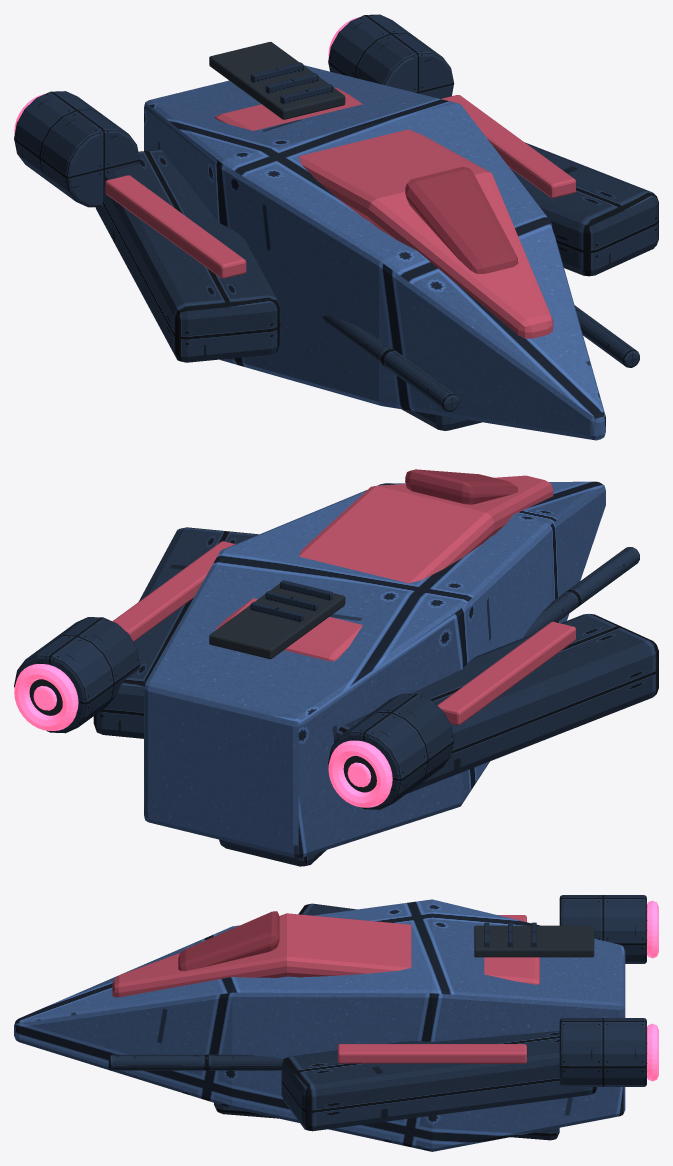
Rendered from raider.glb.
3 views of the same model, one above another, from view 1: azimuth 30°, elevation 25°; view 2: azimuth 150°, elevation 25°; view 3: azimuth 270°, elevation 25° (orthographic). The views are drawn at different scales.
Visible parts, largest first — view 1: Surface_Titanium_Panels, Surface_Brushed_Steel, Surface_raider_Faction_Enamel, Surface_raider_Glazed_Optics, Surface_Recess_Carbon; view 2: Surface_Titanium_Panels, Surface_Brushed_Steel, Surface_raider_Faction_Enamel, Surface_raider_Reactor, Surface_Recess_Carbon, Surface_raider_Glazed_Optics; view 3: Surface_Titanium_Panels, Surface_Brushed_Steel, Surface_raider_Faction_Enamel, Surface_Recess_Carbon, Surface_raider_Glazed_Optics, Surface_raider_Reactor.
Boxes of the visible parts, <box> form: Surface_Titanium_Panels: <box>144,65,605,440</box>; Surface_Brushed_Steel: <box>14,14,658,430</box>; Surface_raider_Faction_Enamel: <box>105,87,575,338</box>; Surface_raider_Glazed_Optics: <box>405,166,518,273</box>; Surface_Recess_Carbon: <box>209,41,345,119</box>; Surface_Titanium_Panels: <box>144,481,605,858</box>; Surface_Brushed_Steel: <box>14,527,658,866</box>; Surface_raider_Faction_Enamel: <box>112,475,575,725</box>; Surface_raider_Reactor: <box>14,664,392,807</box>; Surface_Recess_Carbon: <box>29,583,376,792</box>; Surface_raider_Glazed_Optics: <box>405,469,517,504</box>; Surface_Titanium_Panels: <box>14,899,625,1151</box>; Surface_Brushed_Steel: <box>108,895,646,1140</box>; Surface_raider_Faction_Enamel: <box>112,913,539,1063</box>; Surface_Recess_Carbon: <box>474,920,647,1063</box>; Surface_raider_Glazed_Optics: <box>178,911,279,970</box>; Surface_raider_Reactor: <box>647,900,658,1081</box>.
Size of the model in its own units: 1.23 by 0.6191 by 1.77.
Materials: 6 (2 with a texture image).
